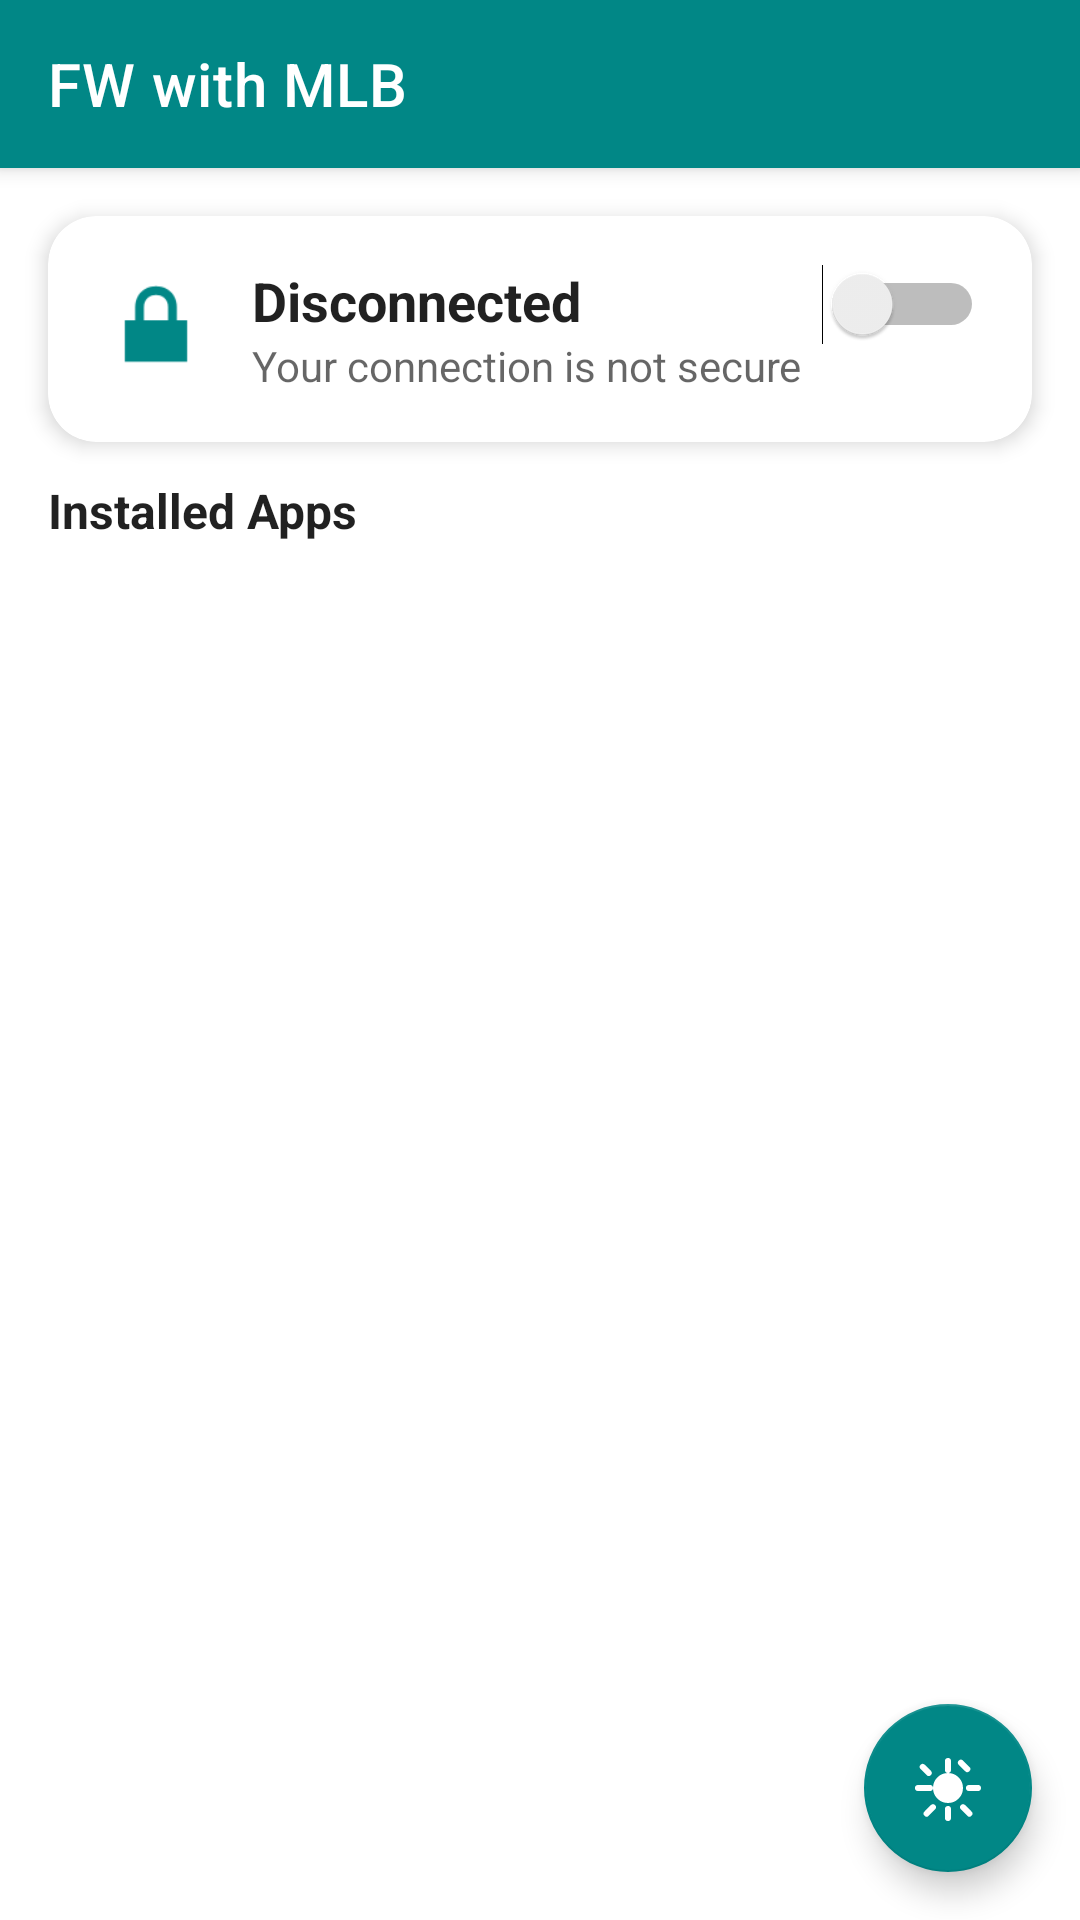

Icon click points for this 1080 x 1920 phone screenshot, format [x,y]:
lock: [156,324]
mode: [948,1788]
